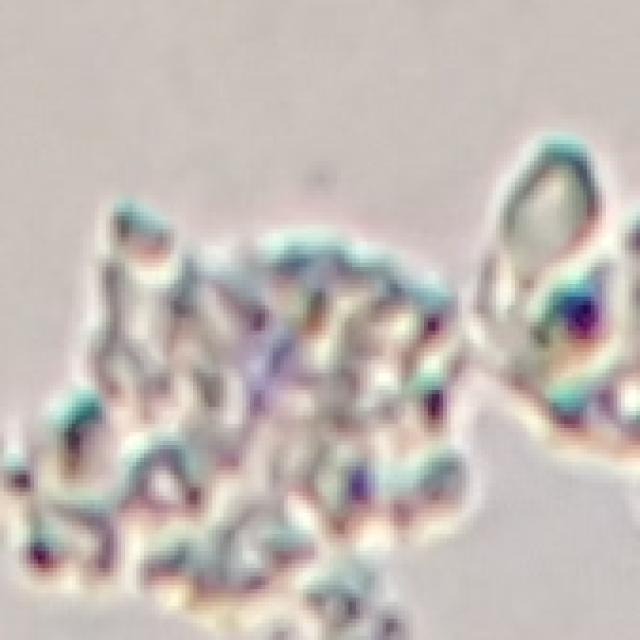non-sperm: (73, 180, 475, 640)
